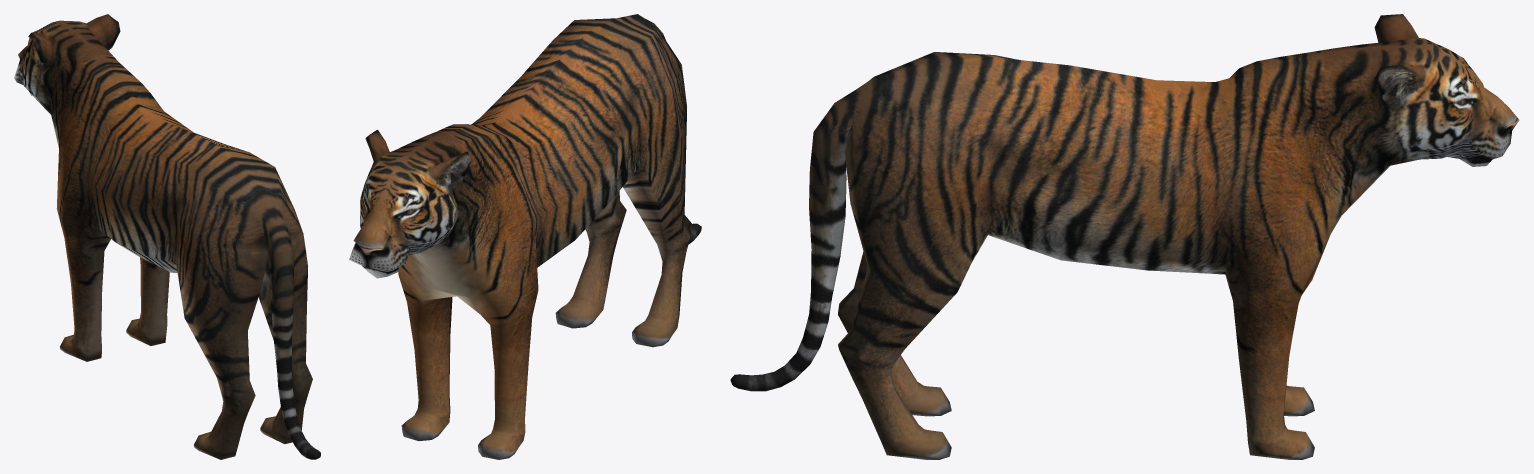
Rendered from Tiger.fbx.
3 views of the same model, side by side, from view 1: azimuth 30°, elevation 25°; view 2: azimuth 150°, elevation 25°; view 3: azimuth 270°, elevation 25° (orthographic). The views are drawn at different scales.
Visible parts, largest first — view 1: White_Tiger; view 2: White_Tiger; view 3: White_Tiger.
Boxes of the visible parts, x1,y1,x2,y2 form: White_Tiger: (14,14,320,459); White_Tiger: (349,14,701,459); White_Tiger: (730,14,1519,459).
Size of the model in its own units: 0.3922 by 0.9361 by 1.72.
Materials: 1 (1 with a texture image).
